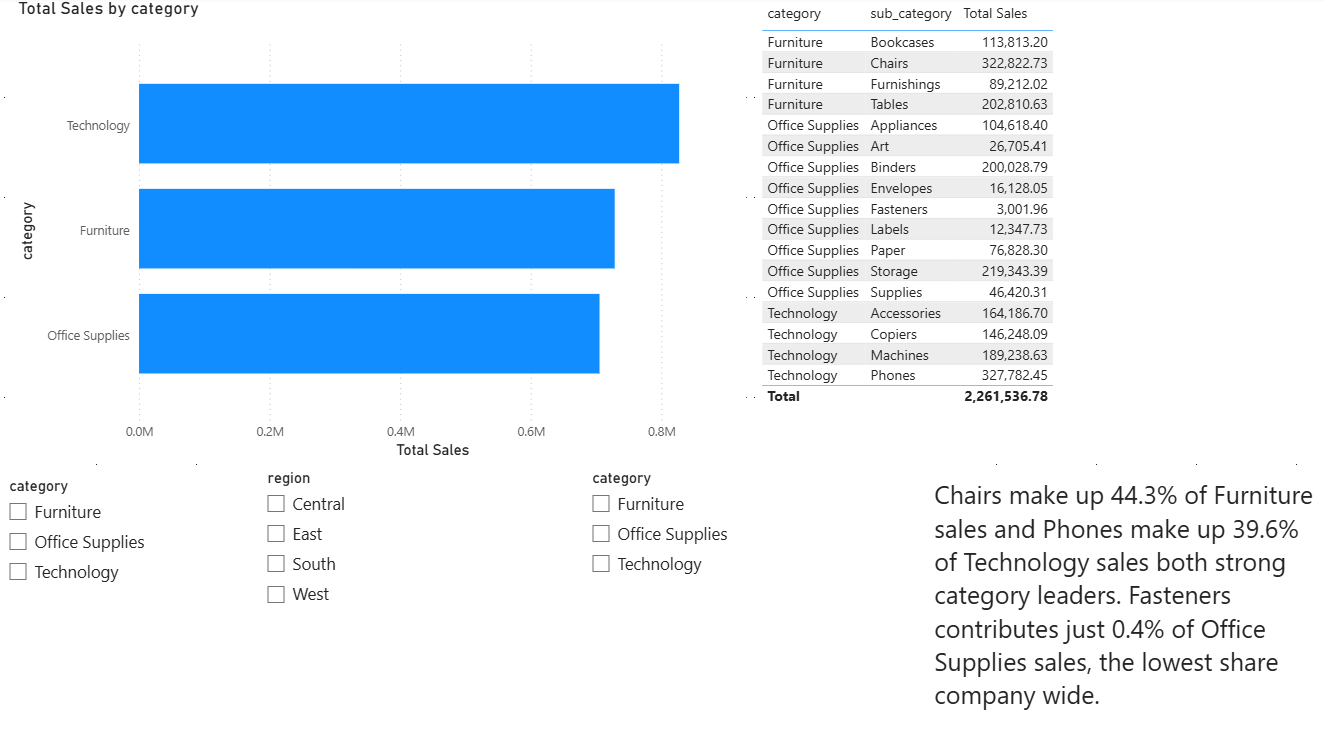

This screenshot's page, from the dashboard's own definition file:
{"tool":"powerbi","page":{"name":"Sub-Category Breakdown","canvas":[1280,720],"ordinal":3},"visuals":[{"type":"clusteredBarChart","fields":{"Category":["clean_sales.category"],"Y":["clean_sales.Total Sales"]},"box":[16,0,704,448],"z":0},{"type":"slicer","fields":{"Values":["clean_sales.category"]},"box":[0,456,248,264],"z":1},{"type":"tableEx","fields":{"Values":["clean_sales.category","clean_sales.sub_category","clean_sales.Total Sales"]},"box":[730,0,550,448],"z":2},{"type":"textbox","box":[896,456,384,264],"z":3},{"type":"slicer","fields":{"Values":["clean_sales.region"]},"box":[248,448,312,272],"z":4},{"type":"slicer","fields":{"Values":["clean_sales.category"]},"box":[560,448,336,272],"z":5}]}

Visuals, with their boxes in screenshot pixels (x1, y1, x2, y2), scaled from the page's 1280x720 canvas onto the 1325x742 screenshot:
clusteredBarChart - clean_sales.category x clean_sales.Total Sales: 17 0 745 462
slicer - clean_sales.category: 0 470 257 741
tableEx - clean_sales.category x clean_sales.sub_category: 756 0 1324 462
textbox: 928 470 1324 741
slicer - clean_sales.region: 257 462 580 741
slicer - clean_sales.category: 580 462 928 741
